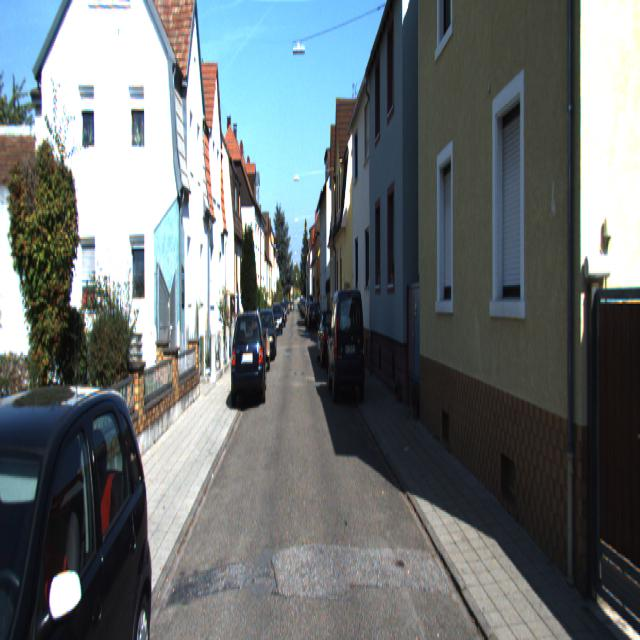Car: (0, 356, 162, 639), (327, 284, 365, 404), (231, 308, 266, 411), (257, 308, 277, 363)
